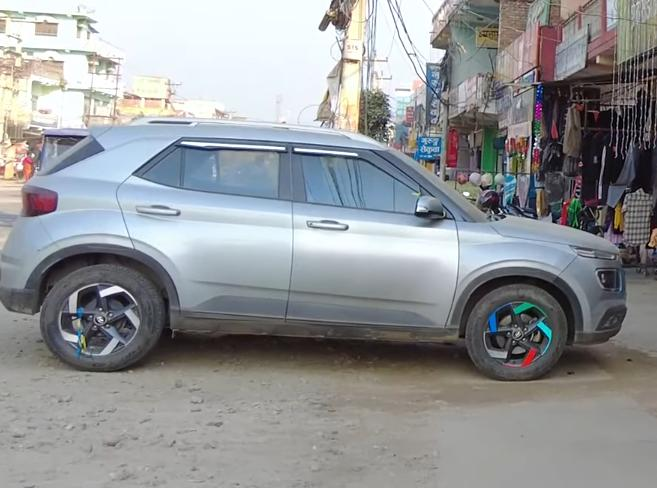car: (10, 109, 634, 391)
